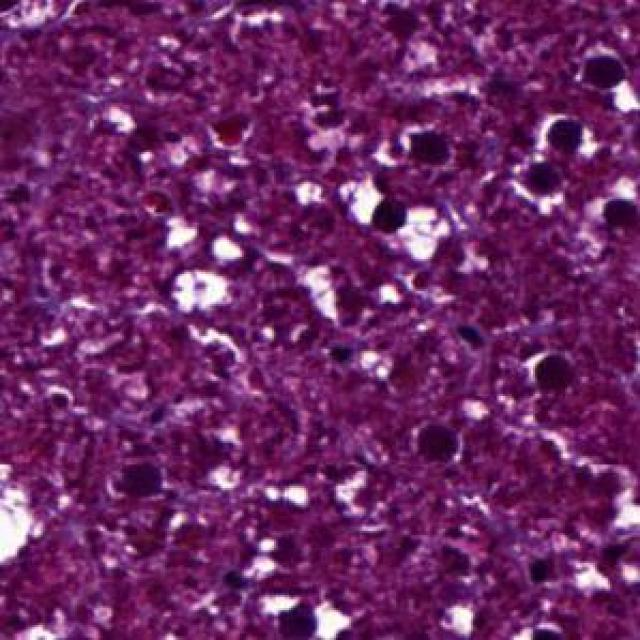inflammation: (353, 182, 443, 270), (501, 148, 571, 222), (248, 593, 345, 640), (527, 111, 597, 165)
